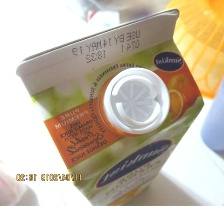carton: (8, 3, 207, 207)
